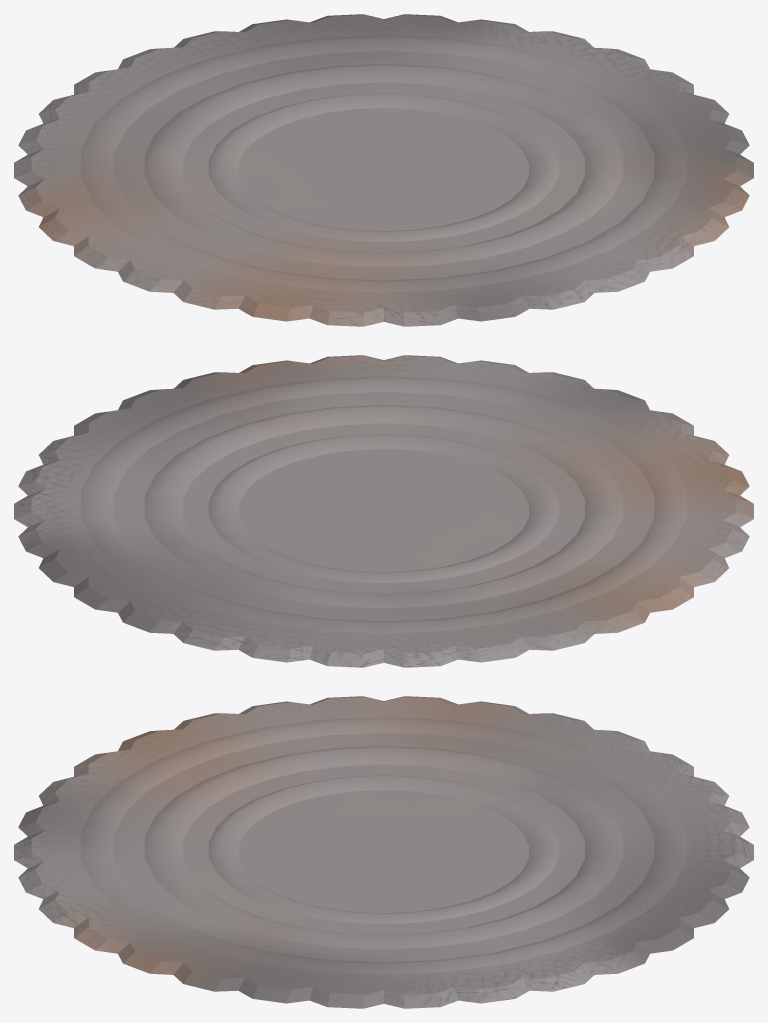
The model's file is can_lid.fbx.
The picture shows the model from 3 angles, top to bottom: view 1: azimuth 30°, elevation 25°; view 2: azimuth 150°, elevation 25°; view 3: azimuth 270°, elevation 25°; orthographic projection.
Visible parts, largest first — view 1: lid; view 2: lid; view 3: lid.
Boxes of the visible parts, box(x1,y1,x2,y2) form: lid: box(14, 14, 753, 326); lid: box(14, 355, 753, 667); lid: box(14, 696, 753, 1008).
Size of the model in its own units: 2.26 by 0.0357 by 2.26.
1 material, 1 textured.
